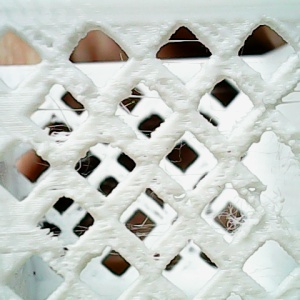3dpstringing: (35, 93, 88, 136), (118, 84, 165, 117), (129, 214, 168, 242), (217, 205, 251, 235), (262, 145, 298, 171), (244, 263, 284, 285), (161, 138, 188, 169), (62, 223, 93, 249), (263, 190, 291, 218), (154, 58, 210, 70), (74, 148, 99, 174), (164, 36, 204, 45), (37, 157, 54, 176), (115, 53, 133, 68), (100, 249, 124, 259), (224, 185, 235, 193)
3dpunderextrusion: (250, 93, 299, 147), (243, 182, 291, 221), (153, 178, 199, 213), (29, 26, 65, 60), (143, 248, 176, 268)
